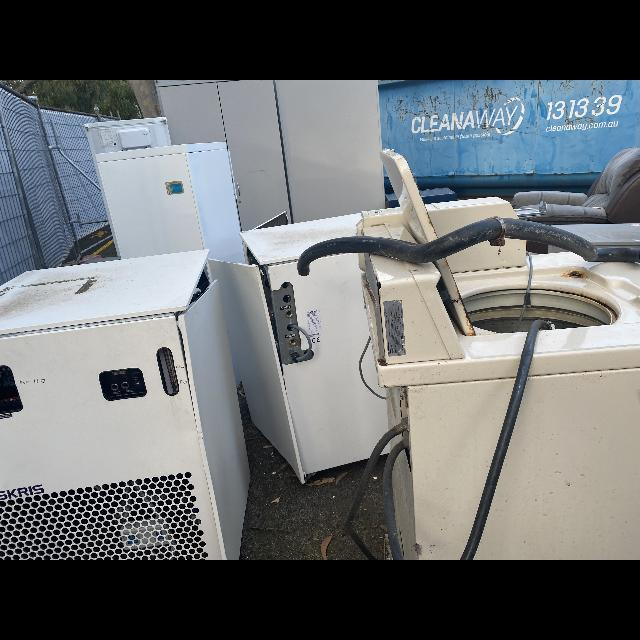Ferrous Metal: (0, 250, 251, 560), (359, 216, 529, 560), (473, 252, 640, 560), (209, 255, 388, 483), (379, 80, 640, 195), (95, 143, 247, 264), (357, 150, 519, 244), (85, 117, 171, 257), (239, 210, 361, 264), (420, 187, 457, 204), (385, 193, 400, 209)
